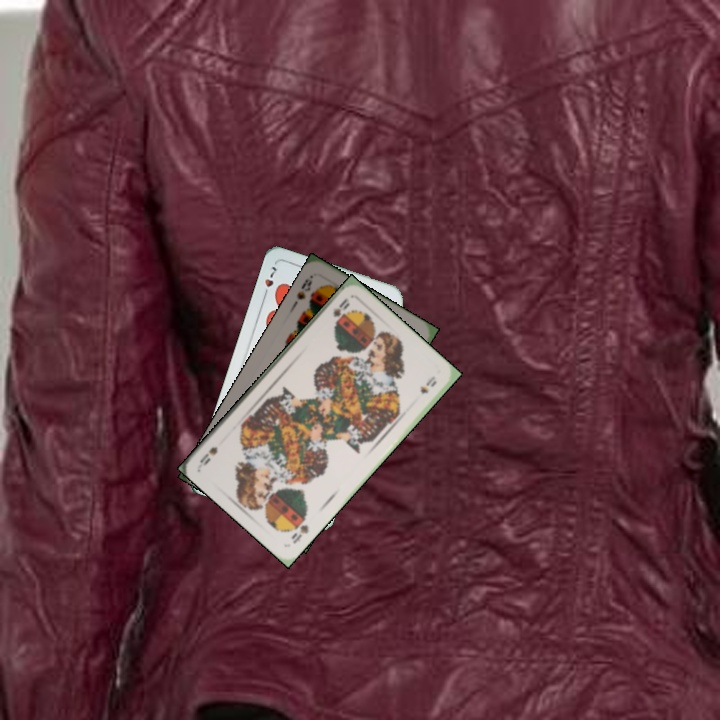H7: (259, 262, 280, 300)
S8: (293, 271, 316, 302)
SO: (287, 514, 311, 546), (329, 294, 352, 326)
